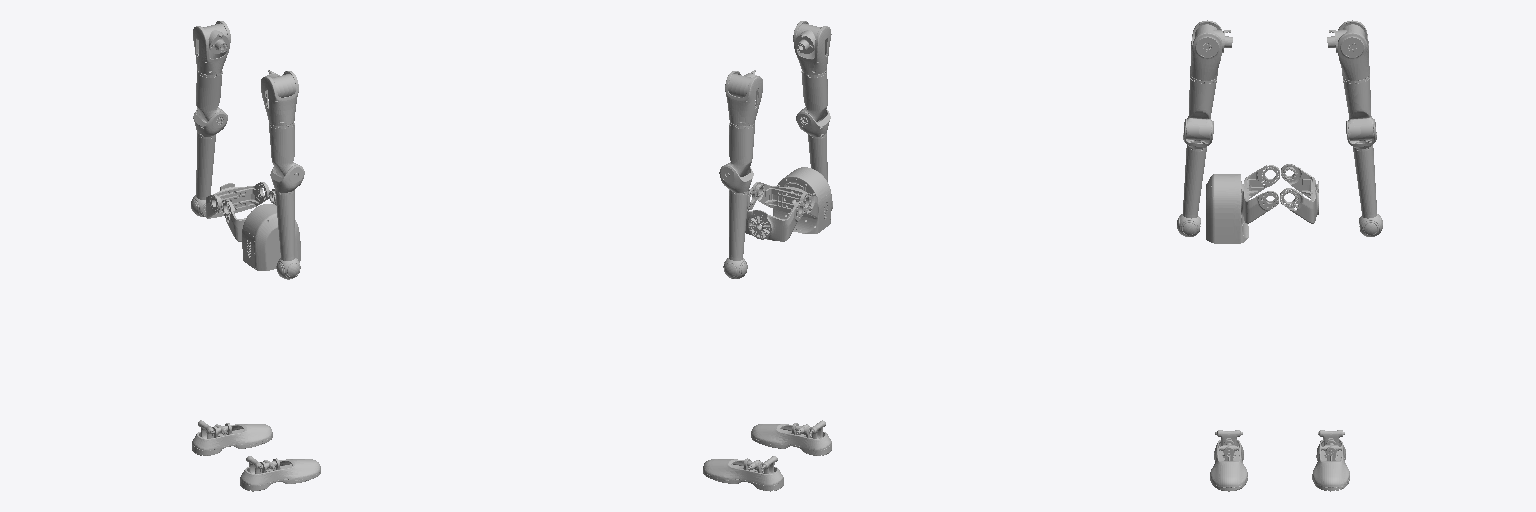
--- Render facts (derived) ---
3 views of the same robot in one strip: view 1: azimuth 30°, elevation 25°; view 2: azimuth 150°, elevation 25°; view 3: azimuth 270°, elevation 25° (orthographic).
Robot: walker_tienkung_vv_description — 22 links, 21 joints (21 revolute); root link pelvis; default pose: every joint at zero.
Links seen in each view (by area): view 1: hip_pitch_r_link, elbow_pitch_r_link, elbow_pitch_l_link, ankle_roll_r_link, ankle_roll_l_link, hip_roll_l_link, shoulder_roll_r_link, shoulder_yaw_r_link, shoulder_roll_l_link, shoulder_yaw_l_link, hip_roll_r_link, shoulder_pitch_l_link; view 2: elbow_pitch_l_link, ankle_roll_l_link, ankle_roll_r_link, hip_pitch_r_link, hip_roll_l_link, hip_roll_r_link, elbow_pitch_r_link, shoulder_roll_l_link, shoulder_yaw_l_link, shoulder_roll_r_link, shoulder_yaw_r_link, shoulder_pitch_r_link; view 3: hip_pitch_r_link, elbow_pitch_l_link, elbow_pitch_r_link, ankle_roll_r_link, ankle_roll_l_link, shoulder_yaw_l_link, shoulder_yaw_r_link, hip_roll_l_link, shoulder_roll_l_link, shoulder_roll_r_link, hip_roll_r_link.
Boxes of the visible links, x1,y1,x2,y2 form: hip_pitch_r_link: (242, 204, 300, 270); elbow_pitch_r_link: (270, 165, 304, 279); elbow_pitch_l_link: (191, 109, 227, 216); ankle_roll_r_link: (240, 456, 320, 491); ankle_roll_l_link: (192, 420, 272, 455); hip_roll_l_link: (206, 182, 269, 218); shoulder_roll_r_link: (261, 71, 298, 125); shoulder_yaw_r_link: (269, 123, 297, 176); shoulder_roll_l_link: (193, 21, 230, 74); shoulder_yaw_l_link: (196, 70, 223, 121); hip_roll_r_link: (222, 189, 275, 241); shoulder_pitch_l_link: (203, 23, 228, 53); elbow_pitch_l_link: (719, 165, 753, 278); ankle_roll_l_link: (703, 456, 783, 491); ankle_roll_r_link: (751, 420, 831, 455); hip_pitch_r_link: (773, 167, 831, 233); hip_roll_l_link: (745, 188, 804, 241); hip_roll_r_link: (752, 182, 817, 218); elbow_pitch_r_link: (796, 109, 832, 210); shoulder_roll_l_link: (725, 71, 762, 125); shoulder_yaw_l_link: (726, 123, 754, 176); shoulder_roll_r_link: (793, 21, 831, 74); shoulder_yaw_r_link: (800, 70, 827, 121); shoulder_pitch_r_link: (795, 23, 820, 53); hip_pitch_r_link: (1206, 174, 1248, 243); elbow_pitch_l_link: (1346, 119, 1382, 236); elbow_pitch_r_link: (1177, 119, 1213, 236); ankle_roll_r_link: (1210, 430, 1247, 491); ankle_roll_l_link: (1312, 430, 1349, 491); shoulder_yaw_l_link: (1343, 75, 1373, 140); shoulder_yaw_r_link: (1186, 75, 1216, 140); hip_roll_l_link: (1280, 164, 1318, 223); shoulder_roll_l_link: (1338, 20, 1369, 80); shoulder_roll_r_link: (1190, 20, 1221, 80); hip_roll_r_link: (1241, 165, 1279, 223).
Bounding box of the posed robot: 0.2756 × 0.6048 × 1.42 m (x, y, z).
Meshes: 22 distinct files referenced, 15 mesh visuals loaded (15 binary STL); not drawn: 7 (reference not matched to a file when rendering).

The robot description file, URDF, robot "walker_tienkung_vv_description":
<?xml version="1.0" encoding="utf-8"?>
<!-- This URDF was automatically created by SolidWorks to URDF Exporter! Originally created by Stephen Brawner ([email redacted]) 
     Commit Version: 1.6.0-4-g7f85cfe  Build Version: 1.6.7995.38578
     For more information, please see http://wiki.ros.org/sw_urdf_exporter -->
<robot
  name="walker_tienkung_vv_description">
  <link
    name="pelvis">
    <inertial>
      <origin
        xyz="-0.000314698113086002 0.000146155597162641 -0.0580410519105974"
        rpy="0 0 0" />
      <mass
        value="2.01628202117527" />
      <inertia
        ixx="0.00558353467126573"
        ixy="0.000304973637733987"
        ixz="1.52521910330684E-06"
        iyy="0.0068769529914571"
        iyz="4.14635462158437E-05"
        izz="0.00700881898958364" />
    </inertial>
    <visual>
      <origin
        xyz="0 0 0"
        rpy="0 0 0" />
      <geometry>
        <mesh
          filename="package://walker_tienkung_vv_description/meshes/pelvis.STL" />
      </geometry>
      <material
        name="">
        <color
          rgba="0.752941176470588 0.752941176470588 0.752941176470588 1" />
      </material>
    </visual>
    <collision>
      <origin
        xyz="0 0 0"
        rpy="0 0 0" />
      <geometry>
        <mesh
          filename="package://walker_tienkung_vv_description/meshes/pelvis.STL" />
      </geometry>
    </collision>
  </link>
  <link
    name="hip_roll_l_link">
    <inertial>
      <origin
        xyz="0.000919450191800016 0.0572719139837816 -0.036535021735144"
        rpy="0 0 0" />
      <mass
        value="1.23732039924563" />
      <inertia
        ixx="0.0016927500689674"
        ixy="-0.000278323986811228"
        ixz="0.000223481878326374"
        iyy="0.00586310404745946"
        iyz="-0.000391779790020835"
        izz="0.00588385612644648" />
    </inertial>
    <visual>
      <origin
        xyz="0 0 0"
        rpy="0 0 0" />
      <geometry>
        <mesh
          filename="package://walker_tienkung_vv_description/meshes/hip_roll_l_link.STL" />
      </geometry>
      <material
        name="">
        <color
          rgba="0.752941176470588 0.752941176470588 0.752941176470588 1" />
      </material>
    </visual>
    <collision>
      <origin
        xyz="0 0 0"
        rpy="0 0 0" />
      <geometry>
        <mesh
          filename="package://walker_tienkung_vv_description/meshes/hip_roll_l_link.STL" />
      </geometry>
    </collision>
  </link>
  <joint
    name="hip_roll_l_joint"
    type="revolute">
    <origin
      xyz="0 0.028 -0.0857"
      rpy="0 0 0" />
    <parent
      link="pelvis" />
    <child
      link="hip_roll_l_link" />
    <axis
      xyz="1 0 0" />
    <limit
      lower="0"
      upper="0"
      effort="0"
      velocity="0" />
  </joint>
  <link
    name="hip_pitch_l_link">
    <inertial>
      <origin
        xyz="0.00418859920800491 0.00150410212063076 -0.0499109668434261"
        rpy="0 0 0" />
      <mass
        value="1.00928417763062" />
      <inertia
        ixx="0.00226953968853705"
        ixy="3.4669004767929E-06"
        ixz="-1.93373593276721E-05"
        iyy="0.00475915581140273"
        iyz="6.10547068876304E-05"
        izz="0.00361243449652642" />
    </inertial>
    <visual>
      <origin
        xyz="0 0 0"
        rpy="0 0 0" />
      <geometry>
        <mesh
          filename="package://walker_tienkung_vv_description/meshes/hip_pitch_l_link.STL" />
      </geometry>
      <material
        name="">
        <color
          rgba="0.752941176470588 0.752941176470588 0.752941176470588 1" />
      </material>
    </visual>
    <collision>
      <origin
        xyz="0 0 0"
        rpy="0 0 0" />
      <geometry>
        <mesh
          filename="package://walker_tienkung_vv_description/meshes/hip_pitch_l_link.STL" />
      </geometry>
    </collision>
  </link>
  <joint
    name="hip_pitch_l_joint"
    type="revolute">
    <origin
      xyz="0 0.122 -0.046"
      rpy="0 0 0" />
    <parent
      link="hip_roll_l_link" />
    <child
      link="hip_pitch_l_link" />
    <axis
      xyz="0 1 0" />
    <limit
      lower="0"
      upper="0"
      effort="0"
      velocity="0" />
  </joint>
  <link
    name="hip_yaw_l_link">
    <inertial>
      <origin
        xyz="0.0103540120249045 -0.00530604018612879 -0.128897968242103"
        rpy="0 0 0" />
      <mass
        value="4.39483809944207" />
      <inertia
        ixx="0.0342475434593585"
        ixy="0.000156771142618084"
        ixz="0.000544185884763633"
        iyy="0.0436615521725374"
        iyz="2.08220336248018E-05"
        izz="0.0121974384261057" />
    </inertial>
    <visual>
      <origin
        xyz="0 0 0"
        rpy="0 0 0" />
      <geometry>
        <mesh
          filename="package://walker_tienkung_vv_description/meshes/hip_yaw_l_link.STL" />
      </geometry>
      <material
        name="">
        <color
          rgba="0.752941176470588 0.752941176470588 0.752941176470588 1" />
      </material>
    </visual>
    <collision>
      <origin
        xyz="0 0 0"
        rpy="0 0 0" />
      <geometry>
        <mesh
          filename="package://walker_tienkung_vv_description/meshes/hip_yaw_l_link.STL" />
      </geometry>
    </collision>
  </link>
  <joint
    name="hip_yaw_l_joint"
    type="revolute">
    <origin
      xyz="0 -0.00015 -0.0987"
      rpy="0 0 0" />
    <parent
      link="hip_pitch_l_link" />
    <child
      link="hip_yaw_l_link" />
    <axis
      xyz="0 0 1" />
    <limit
      lower="0"
      upper="0"
      effort="0"
      velocity="0" />
  </joint>
  <link
    name="knee_pitch_l_link">
    <inertial>
      <origin
        xyz="0.00977348214743748 0.00189286306082959 -0.154096121331005"
        rpy="0 0 0" />
      <mass
        value="1.37885535677751" />
      <inertia
        ixx="0.0233998240636598"
        ixy="1.49714642991773E-05"
        ixz="0.00106049297051654"
        iyy="0.02390814936669"
        iyz="0.00046006704967956"
        izz="0.00112648089494384" />
    </inertial>
    <visual>
      <origin
        xyz="0 0 0"
        rpy="0 0 0" />
      <geometry>
        <mesh
          filename="package://walker_tienkung_vv_description/meshes/knee_pitch_l_link.STL" />
      </geometry>
      <material
        name="">
        <color
          rgba="0.752941176470588 0.752941176470588 0.752941176470588 1" />
      </material>
    </visual>
    <collision>
      <origin
        xyz="0 0 0"
        rpy="0 0 0" />
      <geometry>
        <mesh
          filename="package://walker_tienkung_vv_description/meshes/knee_pitch_l_link.STL" />
      </geometry>
    </collision>
  </link>
  <joint
    name="knee_pitch_l_joint"
    type="revolute">
    <origin
      xyz="0 0.00010715 -0.3013"
      rpy="0 0 0" />
    <parent
      link="hip_yaw_l_link" />
    <child
      link="knee_pitch_l_link" />
    <axis
      xyz="0 1 0" />
    <limit
      lower="0"
      upper="0"
      effort="0"
      velocity="0" />
  </joint>
  <link
    name="ankle_pitch_l_link">
    <inertial>
      <origin
        xyz="1.22819315327577E-09 5.88561477332661E-10 -6.3948846218409E-14"
        rpy="0 0 0" />
      <mass
        value="0.111608822288322" />
      <inertia
        ixx="7.91093390231636E-06"
        ixy="-9.12165359677767E-18"
        ixz="8.55507493327171E-12"
        iyy="7.91093390230623E-06"
        iyz="-2.59346326782665E-11"
        izz="1.20892451422291E-05" />
    </inertial>
    <visual>
      <origin
        xyz="0 0 0"
        rpy="0 0 0" />
      <geometry>
        <mesh
          filename="package://walker_tienkung_vv_description/meshes/ankle_pitch_l_link.STL" />
      </geometry>
      <material
        name="">
        <color
          rgba="0.752941176470588 0.752941176470588 0.752941176470588 1" />
      </material>
    </visual>
    <collision>
      <origin
        xyz="0 0 0"
        rpy="0 0 0" />
      <geometry>
        <mesh
          filename="package://walker_tienkung_vv_description/meshes/ankle_pitch_l_link.STL" />
      </geometry>
    </collision>
  </link>
  <joint
    name="ankle_pitch_l_joint"
    type="revolute">
    <origin
      xyz="0 0 -0.4"
      rpy="0 0 0" />
    <parent
      link="knee_pitch_l_link" />
    <child
      link="ankle_pitch_l_link" />
    <axis
      xyz="0 1 0" />
    <limit
      lower="0"
      upper="0"
      effort="0"
      velocity="0" />
  </joint>
  <link
    name="ankle_roll_l_link">
    <inertial>
      <origin
        xyz="0.0144388129280165 1.46898482461522E-07 -0.0306432167135651"
        rpy="0 0 0" />
      <mass
        value="0.706612200470462" />
      <inertia
        ixx="0.000521077739264845"
        ixy="-2.6263654027731E-08"
        ixz="-0.000152845028974065"
        iyy="0.0031503209467847"
        iyz="-5.8135641478801E-10"
        izz="0.00341487321385917" />
    </inertial>
    <visual>
      <origin
        xyz="0 0 0"
        rpy="0 0 0" />
      <geometry>
        <mesh
          filename="package://walker_tienkung_vv_description/meshes/ankle_roll_l_link.STL" />
      </geometry>
      <material
        name="">
        <color
          rgba="0.752941176470588 0.752941176470588 0.752941176470588 1" />
      </material>
    </visual>
    <collision>
      <origin
        xyz="0 0 0"
        rpy="0 0 0" />
      <geometry>
        <mesh
          filename="package://walker_tienkung_vv_description/meshes/ankle_roll_l_link.STL" />
      </geometry>
    </collision>
  </link>
  <joint
    name="ankle_roll_l_joint"
    type="revolute">
    <origin
      xyz="0 0 0"
      rpy="0 0 0" />
    <parent
      link="ankle_pitch_l_link" />
    <child
      link="ankle_roll_l_link" />
    <axis
      xyz="1 0 0" />
    <limit
      lower="0"
      upper="0"
      effort="0"
      velocity="0" />
  </joint>
  <link
    name="hip_roll_r_link">
    <inertial>
      <origin
        xyz="-0.000922502756278714 -0.0572719123622103 -0.0365297555006445"
        rpy="0 0 0" />
      <mass
        value="1.23732067448595" />
      <inertia
        ixx="0.00169275016438444"
        ixy="-0.000278323803058568"
        ixz="-0.000223493143559199"
        iyy="0.00586310553384015"
        iyz="0.000391779864042873"
        izz="0.00588385760377364" />
    </inertial>
    <visual>
      <origin
        xyz="0 0 0"
        rpy="0 0 0" />
      <geometry>
        <mesh
          filename="package://walker_tienkung_vv_description/meshes/hip_roll_r_link.STL" />
      </geometry>
      <material
        name="">
        <color
          rgba="0.752941176470588 0.752941176470588 0.752941176470588 1" />
      </material>
    </visual>
    <collision>
      <origin
        xyz="0 0 0"
        rpy="0 0 0" />
      <geometry>
        <mesh
          filename="package://walker_tienkung_vv_description/meshes/hip_roll_r_link.STL" />
      </geometry>
    </collision>
  </link>
  <joint
    name="hip_roll_r_joint"
    type="revolute">
    <origin
      xyz="0 -0.028 -0.0857"
      rpy="0 0 0" />
    <parent
      link="pelvis" />
    <child
      link="hip_roll_r_link" />
    <axis
      xyz="1 0 0" />
    <limit
      lower="0"
      upper="0"
      effort="0"
      velocity="0" />
  </joint>
  <link
    name="hip_pitch_r_link">
    <inertial>
      <origin
        xyz="0.00357505714163093 -0.01002874798767 -0.0405260603438964"
        rpy="0 0 0" />
      <mass
        value="1.24327834411987" />
      <inertia
        ixx="0.00306250597443073"
        ixy="-3.42905662535296E-06"
        ixz="-4.81067341746619E-05"
        iyy="0.00594632220716022"
        iyz="0.000112752154127276"
        izz="0.00426108757923478" />
    </inertial>
    <visual>
      <origin
        xyz="0 0 0"
        rpy="0 0 0" />
      <geometry>
        <mesh
          filename="package://walker_tienkung_vv_description/meshes/hip_pitch_r_link.STL" />
      </geometry>
      <material
        name="">
        <color
          rgba="0.752941176470588 0.752941176470588 0.752941176470588 1" />
      </material>
    </visual>
    <collision>
      <origin
        xyz="0 0 0"
        rpy="0 0 0" />
      <geometry>
        <mesh
          filename="package://walker_tienkung_vv_description/meshes/hip_pitch_r_link.STL" />
      </geometry>
    </collision>
  </link>
  <joint
    name="hip_pitch_r_joint"
    type="revolute">
    <origin
      xyz="0 -0.122 -0.046"
      rpy="0 0 0" />
    <parent
      link="hip_roll_r_link" />
    <child
      link="hip_pitch_r_link" />
    <axis
      xyz="0 1 0" />
    <limit
      lower="0"
      upper="0"
      effort="0"
      velocity="0" />
  </joint>
  <link
    name="hip_yaw_r_link">
    <inertial>
      <origin
        xyz="0.0108657934847858 0.00512609147816487 -0.125792089596934"
        rpy="0 0 0" />
      <mass
        value="2.18664263119094" />
      <inertia
        ixx="0.0169072969588581"
        ixy="-7.77506368672042E-05"
        ixz="0.000223078682561433"
        iyy="0.0215376557162319"
        iyz="-1.14243268812287E-05"
        izz="0.00600784135856459" />
    </inertial>
    <visual>
      <origin
        xyz="0 0 0"
        rpy="0 0 0" />
      <geometry>
        <mesh
          filename="package://walker_tienkung_vv_description/meshes/hip_yaw_r_link.STL" />
      </geometry>
      <material
        name="">
        <color
          rgba="0.752941176470588 0.752941176470588 0.752941176470588 1" />
      </material>
    </visual>
    <collision>
      <origin
        xyz="0 0 0"
        rpy="0 0 0" />
      <geometry>
        <mesh
          filename="package://walker_tienkung_vv_description/meshes/hip_yaw_r_link.STL" />
      </geometry>
    </collision>
  </link>
  <joint
    name="hip_yaw_r_joint"
    type="revolute">
    <origin
      xyz="0 0 -0.0987"
      rpy="0 0 0" />
    <parent
      link="hip_pitch_r_link" />
    <child
      link="hip_yaw_r_link" />
    <axis
      xyz="0 0 1" />
    <limit
      lower="0"
      upper="0"
      effort="0"
      velocity="0" />
  </joint>
  <link
    name="knee_pitch_r_link">
    <inertial>
      <origin
        xyz="0.00976039593167336 -0.00195855402761172 -0.15485018687258"
        rpy="0 0 0" />
      <mass
        value="1.38887493856293" />
      <inertia
        ixx="0.0233979939300823"
        ixy="-1.4934606121996E-05"
        ixz="0.00106013796263767"
        iyy="0.0239064491144125"
        iyz="-0.000459781228846009"
        izz="0.00112658427758388" />
    </inertial>
    <visual>
      <origin
        xyz="0 0 0"
        rpy="0 0 0" />
      <geometry>
        <mesh
          filename="package://walker_tienkung_vv_description/meshes/knee_pitch_r_link.STL" />
      </geometry>
      <material
        name="">
        <color
          rgba="0.752941176470588 0.752941176470588 0.752941176470588 1" />
      </material>
    </visual>
    <collision>
      <origin
        xyz="0 0 0"
        rpy="0 0 0" />
      <geometry>
        <mesh
          filename="package://walker_tienkung_vv_description/meshes/knee_pitch_r_link.STL" />
      </geometry>
    </collision>
  </link>
  <joint
    name="knee_pitch_r_joint"
    type="revolute">
    <origin
      xyz="0 0.0010999 -0.3013"
      rpy="0 0 0" />
    <parent
      link="hip_yaw_r_link" />
    <child
      link="knee_pitch_r_link" />
    <axis
      xyz="0 1 0" />
    <limit
      lower="0"
      upper="0"
      effort="0"
      velocity="0" />
  </joint>
  <link
    name="ankle_pitch_r_link">
    <inertial>
      <origin
        xyz="1.23189814312233E-09 5.88333104456495E-10 -4.88288631750322E-10"
        rpy="0 0 0" />
      <mass
        value="0.111608822288321" />
      <inertia
        ixx="7.91093390231634E-06"
        ixy="-4.51242954346441E-18"
        ixz="8.55507589525009E-12"
        iyy="7.91093390233538E-06"
        iyz="-2.81884094893185E-11"
        izz="1.20892451421998E-05" />
    </inertial>
    <visual>
      <origin
        xyz="0 0 0"
        rpy="0 0 0" />
      <geometry>
        <mesh
          filename="package://walker_tienkung_vv_description/meshes/ankle_pitch_r_link.STL" />
      </geometry>
      <material
        name="">
        <color
          rgba="0.752941176470588 0.752941176470588 0.752941176470588 1" />
      </material>
    </visual>
    <collision>
      <origin
        xyz="0 0 0"
        rpy="0 0 0" />
      <geometry>
        <mesh
          filename="package://walker_tienkung_vv_description/meshes/ankle_pitch_r_link.STL" />
      </geometry>
    </collision>
  </link>
  <joint
    name="ankle_pitch_r_joint"
    type="revolute">
    <origin
      xyz="0 0 -0.4"
      rpy="0 0 0" />
    <parent
      link="knee_pitch_r_link" />
    <child
      link="ankle_pitch_r_link" />
    <axis
      xyz="0 1 0" />
    <limit
      lower="0"
      upper="0"
      effort="0"
      velocity="0" />
  </joint>
  <link
    name="ankle_roll_r_link">
    <inertial>
      <origin
        xyz="0.026359892836309 -8.62601913176331E-07 -0.031330052181934"
        rpy="0 0 0" />
      <mass
        value="1.07636084523927" />
      <inertia
        ixx="0.000816238559624131"
        ixy="-1.17907085270797E-07"
        ixz="-0.000239317769287131"
        iyy="0.00533005035622352"
        iyz="5.51959631702985E-09"
        izz="0.00584682567497041" />
    </inertial>
    <visual>
      <origin
        xyz="0 0 0"
        rpy="0 0 0" />
      <geometry>
        <mesh
          filename="package://walker_tienkung_vv_description/meshes/ankle_roll_r_link.STL" />
      </geometry>
      <material
        name="">
        <color
          rgba="0.752941176470588 0.752941176470588 0.752941176470588 1" />
      </material>
    </visual>
    <collision>
      <origin
        xyz="0 0 0"
        rpy="0 0 0" />
      <geometry>
        <mesh
          filename="package://walker_tienkung_vv_description/meshes/ankle_roll_r_link.STL" />
      </geometry>
    </collision>
  </link>
  <joint
    name="ankle_roll_r_joint"
    type="revolute">
    <origin
      xyz="0 0 0"
      rpy="0 0 0" />
    <parent
      link="ankle_pitch_r_link" />
    <child
      link="ankle_roll_r_link" />
    <axis
      xyz="1 0 0" />
    <limit
      lower="0"
      upper="0"
      effort="0"
      velocity="0" />
  </joint>
  <link
    name="body_yaw_link">
    <inertial>
      <origin
        xyz="0.00879963692001472 -0.00036830954857288 0.260865132659209"
        rpy="0 0 0" />
      <mass
        value="12.0801700666556" />
      <inertia
        ixx="0.0865785045820782"
        ixy="4.00631319615669E-05"
        ixz="-0.00179511827795625"
        iyy="0.0621890047502719"
        iyz="0.000167206827410468"
        izz="0.0507966264041142" />
    </inertial>
    <visual>
      <origin
        xyz="0 0 0"
        rpy="0 0 0" />
      <geometry>
        <mesh
          filename="package://walker_tienkung_vv_description/meshes/body_yaw_link.STL" />
      </geometry>
      <material
        name="">
        <color
          rgba="0.752941176470588 0.752941176470588 0.752941176470588 1" />
      </material>
    </visual>
    <collision>
      <origin
        xyz="0 0 0"
        rpy="0 0 0" />
      <geometry>
        <mesh
          filename="package://walker_tienkung_vv_description/meshes/body_yaw_link.STL" />
      </geometry>
    </collision>
  </link>
  <joint
    name="body_yaw_joint"
    type="revolute">
    <origin
      xyz="0 0 0"
      rpy="0 0 0" />
    <parent
      link="pelvis" />
    <child
      link="body_yaw_link" />
    <axis
      xyz="0 0 1" />
    <limit
      lower="0"
      upper="0"
      effort="0"
      velocity="0" />
  </joint>
  <link
    name="shoulder_pitch_l_link">
    <inertial>
      <origin
        xyz="-1.51283396276514E-05 0.0601171806935812 0.000460494764233266"
        rpy="0 0 0" />
      <mass
        value="0.170590564917582" />
      <inertia
        ixx="0.000209621932875684"
        ixy="4.81408845109157E-05"
        ixz="-1.2359066703917E-06"
        iyy="0.000152454313149"
        iyz="-1.98924935724453E-06"
        izz="0.000181823274062902" />
    </inertial>
    <visual>
      <origin
        xyz="0 0 0"
        rpy="0 0 0" />
      <geometry>
        <mesh
          filename="package://walker_tienkung_vv_description/meshes/shoulder_pitch_l_link.STL" />
      </geometry>
      <material
        name="">
        <color
          rgba="0.752941176470588 0.752941176470588 0.752941176470588 1" />
      </material>
    </visual>
    <collision>
      <origin
        xyz="0 0 0"
        rpy="0 0 0" />
      <geometry>
        <mesh
          filename="package://walker_tienkung_vv_description/meshes/shoulder_pitch_l_link.STL" />
      </geometry>
    </collision>
  </link>
  <joint
    name="shoulder_pitch_l_joint"
    type="revolute">
    <origin
      xyz="0 0.14034 0.37677"
      rpy="0.087266 0 0" />
    <parent
      link="body_yaw_link" />
    <child
      link="shoulder_pitch_l_link" />
    <axis
      xyz="0 1 0" />
    <limit
      lower="0"
      upper="0"
      effort="0"
      velocity="0" />
  </joint>
  <link
    name="shoulder_roll_l_link">
    <inertial>
      <origin
        xyz="0.00853873505110731 -0.0134623710658917 -0.0239963255325807"
        rpy="0 0 0" />
      <mass
        value="0.610322528433143" />
      <inertia
        ixx="0.00127181485723417"
        ixy="0.000138316884527414"
        ixz="9.76347303976402E-05"
        iyy="0.00103808772671"
        iyz="1.80799526745838E-05"
        izz="0.00077033598473156" />
    </inertial>
    <visual>
      <origin
        xyz="0 0 0"
        rpy="0 0 0" />
      <geometry>
        <mesh
          filename="package://walker_tienkung_vv_description/meshes/shoulder_roll_l_link.STL" />
      </geometry>
      <material
        name="">
        <color
          rgba="0.752941176470588 0.752941176470588 0.752941176470588 1" />
      </material>
    </visual>
    <collision>
      <origin
        xyz="0 0 0"
        rpy="0 0 0" />
      <geometry>
        <mesh
          filename="package://walker_tienkung_vv_description/meshes/shoulder_roll_l_link.STL" />
      </geometry>
    </collision>
  </link>
  <joint
    name="shoulder_roll_l_joint"
    type="revolute">
    <origin
      xyz="0 0.073 0"
      rpy="0 0 0" />
    <parent
      link="shoulder_pitch_l_link" />
    <child
      link="shoulder_roll_l_link" />
    <axis
      xyz="1 0 0" />
    <limit
      lower="0"
      upper="0"
      effort="0"
      velocity="0" />
  </joint>
  <link
    name="shoulder_yaw_l_link">
    <inertial>
      <origin
        xyz="0.00467065599996587 0.000860105516531484 -0.0684032974883744"
        rpy="0 0 0" />
      <mass
        value="0.339150759296429" />
      <inertia
        ixx="0.00119619243564983"
        ixy="-5.03941199873571E-06"
        ixz="-9.38319970773105E-05"
        iyy="0.00122680506839109"
        iyz="2.65558006453455E-05"
        izz="0.000407569995266982" />
    </inertial>
    <visual>
      <origin
        xyz="0 0 0"
        rpy="0 0 0" />
      <geometry>
        <mesh
          filename="package://walker_tienkung_vv_description/meshes/shoulder_yaw_l_link.STL" />
      </geometry>
      <material
        name="">
        <color
          rgba="0.752941176470588 0.752941176470588 0.752941176470588 1" />
      </material>
    </visual>
    <collision>
      <origin
        xyz="0 0 0"
        rpy="0 0 0" />
      <geometry>
        <mesh
          filename="package://walker_tienkung_vv_description/meshes/shoulder_yaw_l_link.STL" />
      </geometry>
    </collision>
  </link>
  <joint
    name="shoulder_yaw_l_joint"
    type="revolute">
    <origin
      xyz="0 0 -0.13"
      rpy="0 0 0" />
    <parent
      link="shoulder_roll_l_link" />
    <child
      link="shoulder_yaw_l_link" />
    <axis
      xyz="0 0 1" />
    <limit
      lower="0"
      upper="0"
      effort="0"
      velocity="0" />
  </joint>
  <link
    name="elbow_pitch_l_link">
    <inertial>
      <origin
        xyz="-0.0190718361070142 3.05887832923735E-05 -0.195439858297766"
        rpy="0 0 0" />
      <mass
        value="0.553797243176773" />
      <inertia
        ixx="0.00150475389055533"
        ixy="-1.43273608944438E-07"
        ixz="1.18497247835071E-05"
        iyy="0.00156348641492305"
        iyz="-1.1229292977002E-06"
        izz="0.000372537268822332" />
    </inertial>
    <visual>
      <origin
        xyz="0 0 0"
        rpy="0 0 0" />
      <geometry>
        <mesh
          filename="package://walker_tienkung_vv_description/meshes/elbow_pitch_l_link.STL" />
      </geometry>
      <material
        name="">
        <color
          rgba="0.752941176470588 0.752941176470588 0.752941176470588 1" />
      </material>
    </visual>
    <collision>
      <origin
        xyz="0 0 0"
        rpy="0 0 0" />
      <geometry>
        <mesh
          filename="package://walker_tienkung_vv_description/meshes/elbow_pitch_l_link.STL" />
      </geometry>
    </collision>
  </link>
  <joint
    name="elbow_pitch_l_joint"
    type="revolute">
    <origin
      xyz="0.019998 0 -0.15"
      rpy="0 0 0" />
    <parent
      link="shoulder_yaw_l_link" />
    <child
      link="elbow_pitch_l_link" />
    <axis
      xyz="0 1 0" />
    <limit
      lower="0"
      upper="0"
      effort="0"
      velocity="0" />
  </joint>
  <link
    name="shoulder_pitch_r_link">
    <inertial>
      <origin
        xyz="-1.52599758197161E-05 -0.0601179324323542 0.00046005393028753"
        rpy="0 0 0" />
      <mass
        value="0.170561877495496" />
      <inertia
        ixx="0.000209609536590914"
        ixy="-4.81447149830795E-05"
        ixz="-1.23894769177556E-06"
        iyy="0.000152442858529651"
        iyz="1.99829703033515E-06"
        izz="0.000181821878804263" />
    </inertial>
    <visual>
      <origin
        xyz="0 0 0"
        rpy="0 0 0" />
      <geometry>
        <mesh
          filename="package://walker_tienkung_vv_description/meshes/shoulder_pitch_r_link.STL" />
      </geometry>
      <material
        name="">
        <color
          rgba="0.752941176470588 0.752941176470588 0.752941176470588 1" />
      </material>
    </visual>
    <collision>
      <origin
        xyz="0 0 0"
        rpy="0 0 0" />
      <geometry>
        <mesh
          filename="package://walker_tienkung_vv_description/meshes/shoulder_pitch_r_link.STL" />
      </geometry>
    </collision>
  </link>
  <joint
    name="shoulder_pitch_r_joint"
    type="revolute">
    <origin
      xyz="0 -0.14034 0.37677"
      rpy="-0.087266 0 0" />
    <parent
      link="body_yaw_link" />
    <child
      link="shoulder_pitch_r_link" />
    <axis
      xyz="0 1 0" />
    <limit
      lower="0"
      upper="0"
      effort="0"
      velocity="0" />
  </joint>
  <link
    name="shoulder_roll_r_link">
    <inertial>
      <origin
        xyz="0.00855591711760435 0.0134531894389444 -0.0240081155158422"
        rpy="0 0 0" />
      <mass
        value="0.610030371394207" />
      <inertia
        ixx="0.00127164606804066"
        ixy="-0.000138275723219182"
        ixz="9.76177516779607E-05"
        iyy="0.00103741064276893"
        iyz="-1.83217304329298E-05"
        izz="0.000769838465968771" />
    </inertial>
    <visual>
      <origin
        xyz="0 0 0"
        rpy="0 0 0" />
      <geometry>
        <mesh
          filename="package://walker_tienkung_vv_description/meshes/shoulder_roll_r_link.STL" />
      </geometry>
      <material
        name="">
        <color
          rgba="0.752941176470588 0.752941176470588 0.752941176470588 1" />
      </material>
    </visual>
    <collision>
      <origin
        xyz="0 0 0"
        rpy="0 0 0" />
      <geometry>
        <mesh
          filename="package://walker_tienkung_vv_description/meshes/shoulder_roll_r_link.STL" />
      </geometry>
    </collision>
  </link>
  <joint
    name="shoulder_roll_r_joint"
    type="revolute">
    <origin
      xyz="0 -0.073 0"
      rpy="0 0 0" />
    <parent
      link="shoulder_pitch_r_link" />
    <child
      link="shoulder_roll_r_link" />
    <axis
      xyz="1 0 0" />
    <limit
      lower="0"
      upper="0"
      effort="0"
      velocity="0" />
  </joint>
  <link
    name="shoulder_yaw_r_link">
    <inertial>
      <origin
        xyz="0.00467509374396711 -0.000861697247363735 -0.0684112576759473"
        rpy="0 0 0" />
      <mass
        value="0.339113578191921" />
      <inertia
        ixx="0.0011960128480415"
        ixy="5.0456597986902E-06"
        ixz="-9.37325817832445E-05"
        iyy="0.00122662284309278"
        iyz="-2.65525240805958E-05"
        izz="0.00040752658607188" />
    </inertial>
    <visual>
      <origin
        xyz="0 0 0"
        rpy="0 0 0" />
      <geometry>
        <mesh
          filename="package://walker_tienkung_vv_description/meshes/shoulder_yaw_r_link.STL" />
      </geometry>
      <material
        name="">
        <color
          rgba="0.752941176470588 0.752941176470588 0.752941176470588 1" />
      </material>
    </visual>
    <collision>
      <origin
        xyz="0 0 0"
        rpy="0 0 0" />
      <geometry>
        <mesh
          filename="package://walker_tienkung_vv_description/meshes/shoulder_yaw_r_link.STL" />
      </geometry>
    </collision>
  </link>
  <joint
    name="shoulder_yaw_r_joint"
    type="revolute">
    <origin
      xyz="0 0 -0.13"
      rpy="0 0 0" />
    <parent
      link="shoulder_roll_r_link" />
    <child
      link="shoulder_yaw_r_link" />
    <axis
      xyz="0 0 1" />
    <limit
      lower="0"
      upper="0"
      effort="0"
      velocity="0" />
  </joint>
  <link
    name="elbow_pitch_r_link">
    <inertial>
      <origin
        xyz="-0.0190765071411235 -2.97962655956274E-05 -0.195434369409312"
        rpy="0 0 0" />
      <mass
        value="0.553803271667151" />
      <inertia
        ixx="0.00150475844107614"
        ixy="1.36177457430984E-07"
        ixz="1.18419416514189E-05"
        iyy="0.0015634941036692"
        iyz="1.12270908696277E-06"
        izz="0.000372541133231739" />
    </inertial>
    <visual>
      <origin
        xyz="0 0 0"
        rpy="0 0 0" />
      <geometry>
        <mesh
          filename="package://walker_tienkung_vv_description/meshes/elbow_pitch_r_link.STL" />
      </geometry>
      <material
        name="">
        <color
          rgba="0.752941176470588 0.752941176470588 0.752941176470588 1" />
      </material>
    </visual>
    <collision>
      <origin
        xyz="0 0 0"
        rpy="0 0 0" />
      <geometry>
        <mesh
          filename="package://walker_tienkung_vv_description/meshes/elbow_pitch_r_link.STL" />
      </geometry>
    </collision>
  </link>
  <joint
    name="elbow_pitch_r_joint"
    type="revolute">
    <origin
      xyz="0.020003 0 -0.15"
      rpy="0 0 0" />
    <parent
      link="shoulder_yaw_r_link" />
    <child
      link="elbow_pitch_r_link" />
    <axis
      xyz="0 1 0" />
    <limit
      lower="0"
      upper="0"
      effort="0"
      velocity="0" />
  </joint>
</robot>
